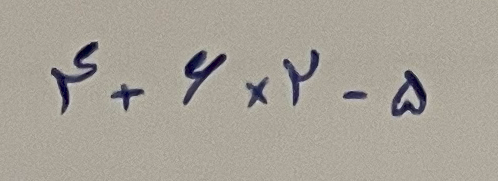character: (51, 39, 99, 115), (180, 48, 228, 106), (281, 47, 322, 107), (390, 67, 435, 119), (111, 81, 146, 110), (244, 75, 272, 106), (342, 88, 370, 102)
